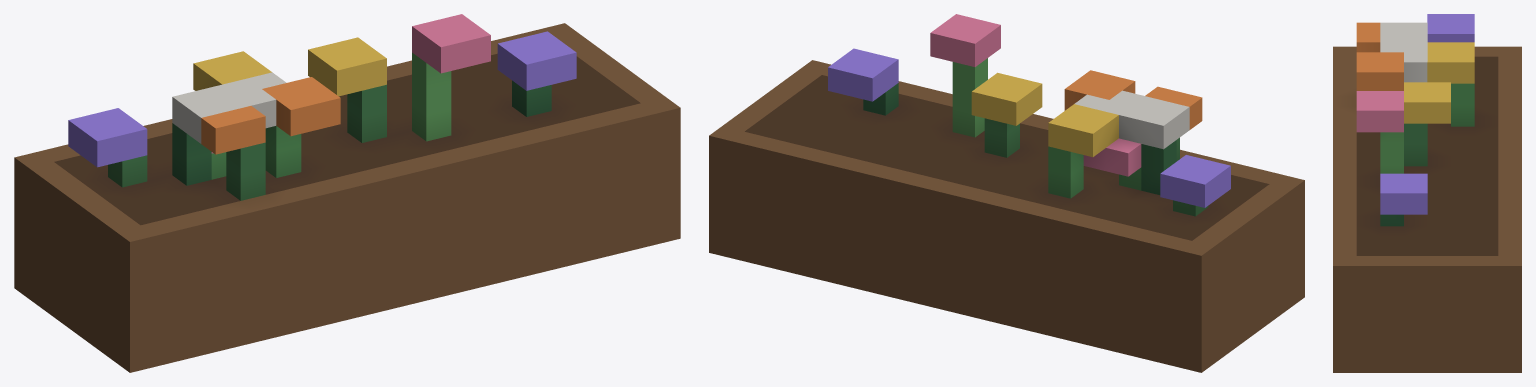
The model's file is planter_wood.glb.
3 views of the same model, side by side, from view 1: azimuth 30°, elevation 25°; view 2: azimuth 150°, elevation 25°; view 3: azimuth 270°, elevation 25° (orthographic). The views are drawn at different scales.
Visible parts, largest first — view 1: Model; view 2: Model; view 3: Model.
Boxes of the visible parts, left/top/right/bottom form: Model: left=14, top=14, right=680, bottom=372; Model: left=709, top=14, right=1304, bottom=372; Model: left=1333, top=14, right=1521, bottom=372.
Size of the model in its own units: 2.2 by 0.9 by 0.8.
